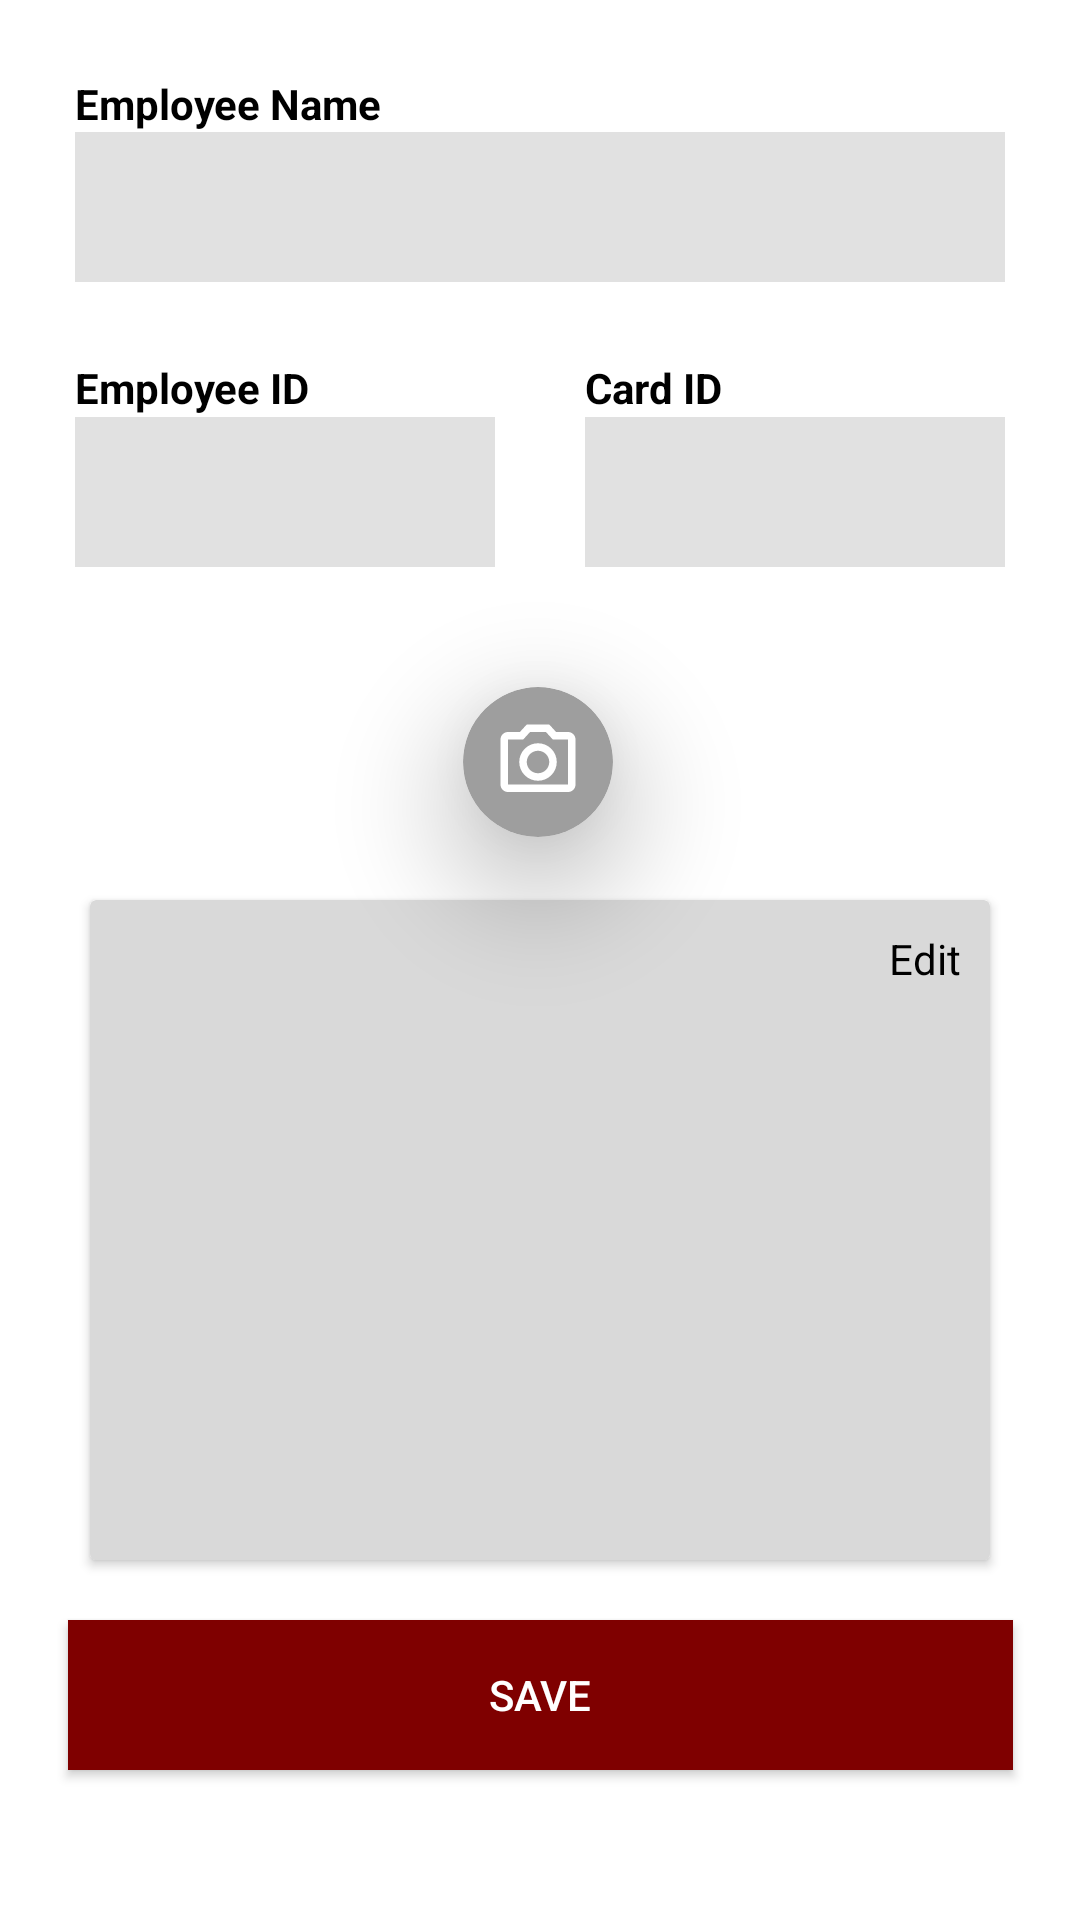

Named icons in this screenshot (1080x1920) and their bounding boxes, (x1, y1, x2, y2):
camera: (463, 687, 613, 837)
